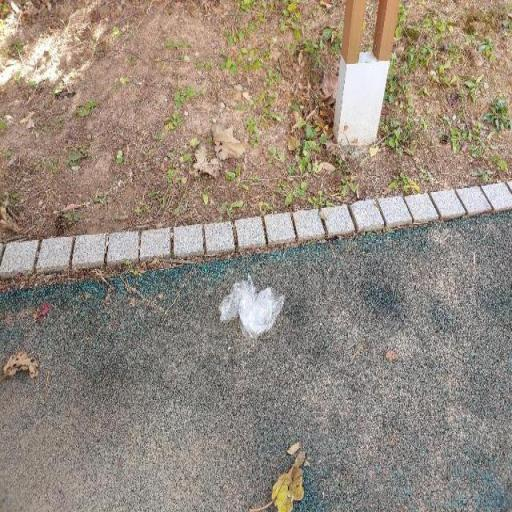plastic-bag: (217, 275, 285, 338)
